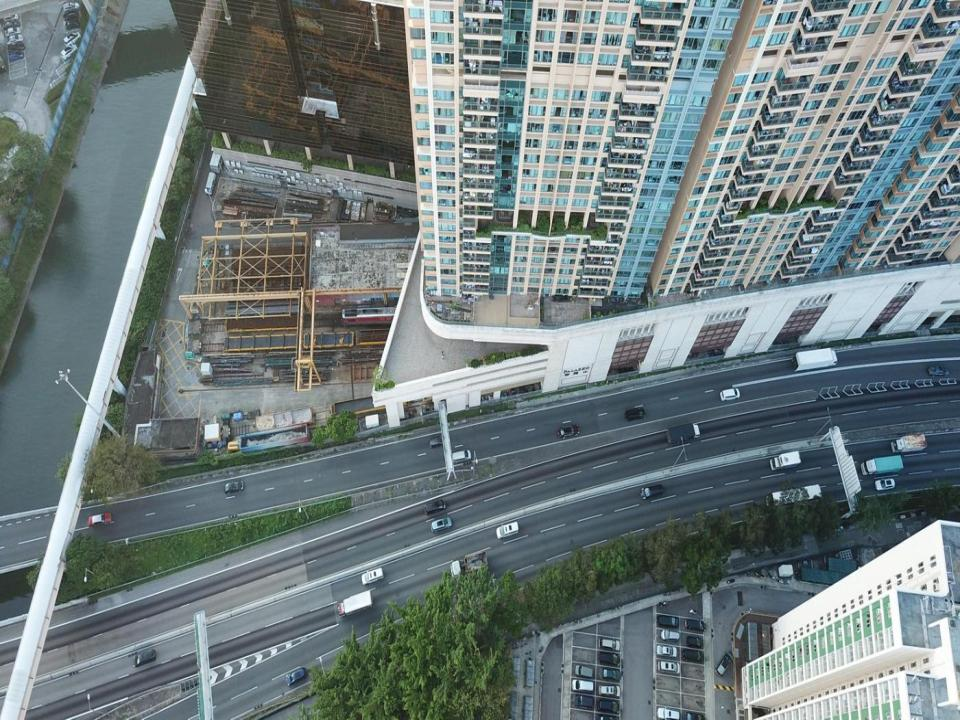bus: (766, 483, 821, 508)
car: (361, 566, 384, 585), (132, 649, 156, 667), (285, 667, 307, 686), (87, 512, 112, 526), (558, 423, 580, 438), (656, 644, 678, 659), (431, 517, 451, 533), (597, 699, 619, 713), (658, 660, 680, 674), (657, 615, 679, 629), (875, 477, 896, 491), (424, 499, 446, 512), (657, 707, 680, 719), (599, 685, 620, 698), (61, 44, 78, 60), (720, 388, 740, 401), (64, 32, 81, 47), (599, 638, 620, 650), (599, 652, 620, 664), (601, 667, 620, 680), (224, 480, 244, 492), (927, 366, 950, 376), (428, 435, 447, 447), (661, 628, 680, 640), (7, 33, 24, 46), (8, 40, 24, 53), (63, 2, 80, 13), (8, 51, 24, 62), (4, 19, 21, 29), (66, 18, 80, 30), (63, 8, 78, 19), (3, 13, 18, 24), (684, 712, 706, 719), (4, 28, 22, 36)
truck: (793, 346, 837, 373), (451, 550, 488, 577), (337, 590, 373, 617), (860, 455, 903, 474), (666, 423, 700, 444), (891, 433, 927, 452), (769, 450, 801, 470)
van: (715, 650, 733, 678), (640, 483, 664, 501), (496, 521, 518, 540), (682, 647, 704, 663), (210, 146, 223, 173), (572, 678, 593, 693), (573, 694, 594, 708), (624, 408, 645, 421), (685, 620, 706, 632), (452, 448, 471, 461), (575, 664, 593, 677), (687, 635, 704, 648), (206, 172, 216, 194)
